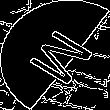M_SE: (15, 21, 95, 89)
